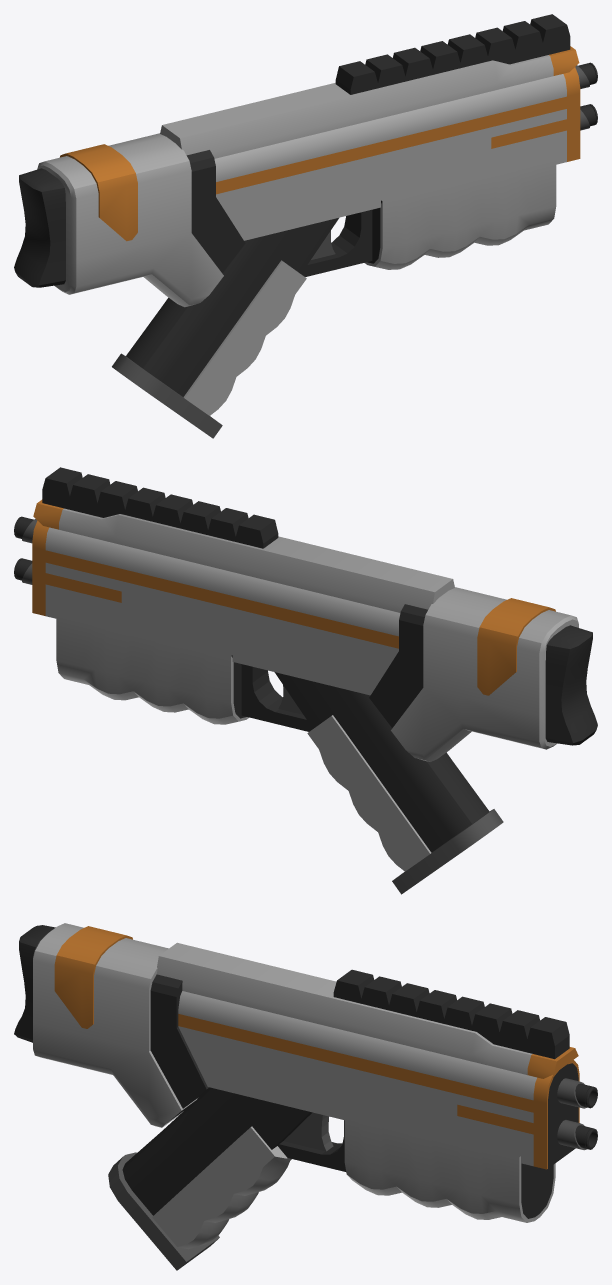
The model's file is Scifi Pistol-U0Q1BrKL1y.glb.
3 views of the same model, one above another, from view 1: azimuth 30°, elevation 25°; view 2: azimuth 150°, elevation 25°; view 3: azimuth 330°, elevation 25° (orthographic).
Visible parts, largest first — view 1: Pistol_3; view 2: Pistol_3; view 3: Pistol_3.
Part boxes in pixels (box(x1,y1,x2,y2)): Pistol_3: box(14, 14, 597, 438); Pistol_3: box(14, 467, 597, 894); Pistol_3: box(14, 923, 597, 1270).
Size of the model in its own units: 0.9094 by 0.4864 by 0.114.
